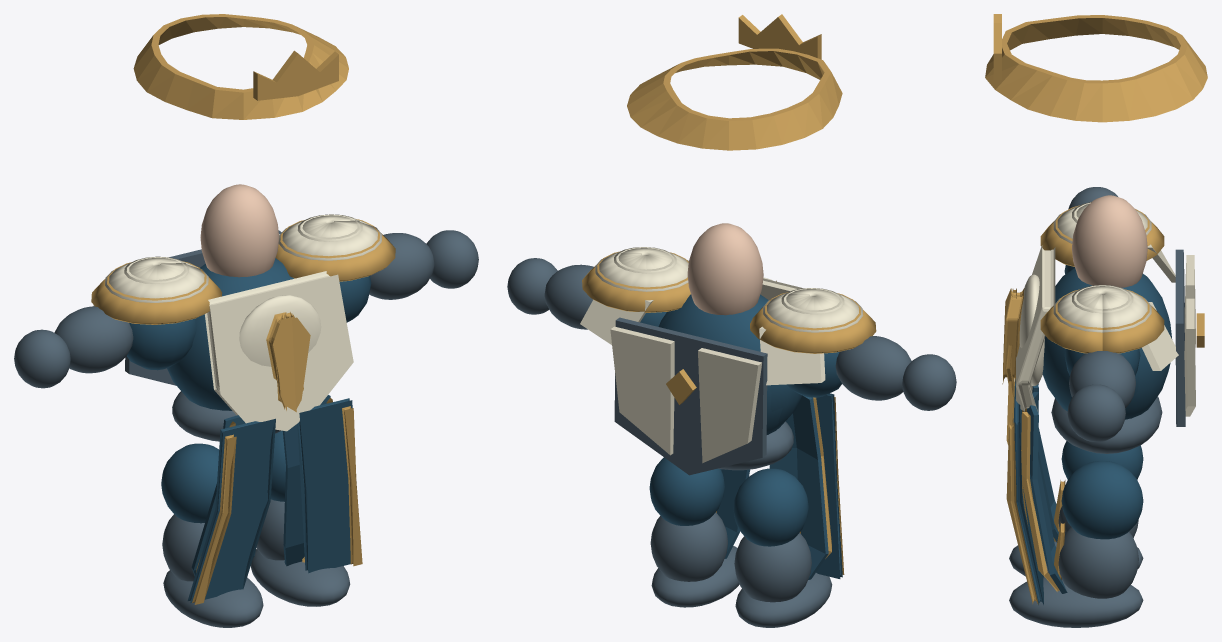
Rendered from knight-fitting-head-balance-v1.glb.
The picture shows the model from 3 angles, left to right: view 1: azimuth 30°, elevation 25°; view 2: azimuth 150°, elevation 25°; view 3: azimuth 270°, elevation 25°; orthographic projection. The views are drawn at different scales.
Parts seen in each view (by area): view 1: TLL_chest, Oath cuirass, TLL_head, Split navy coat.001, Split navy coat, TLL_hips, TLL_lowerarmr, TLL_upperlegr, TLL_footl, Curved shoulder lame -1 2, TLL_footr, TLL_lowerarml (+17 smaller); view 2: TLL_head, TLL_chest, Jade Knight dorsal shadow seam, TLL_hips, Jade Knight split oath crest 1, Jade Knight split oath crest -1, TLL_upperlegr, TLL_lowerlegr, TLL_lowerlegl, TLL_upperlegl, TLL_lowerarmr, Curved shoulder lame -1 2 (+14 smaller); view 3: TLL_head, TLL_chest, TLL_hips, TLL_upperlegl, TLL_lowerlegl, TLL_footl, Curved shoulder lame 1 2, Oath cuirass, TLL_handl, Curved shoulder lame 1 1, TLL_lowerarml, Jade Knight dorsal shadow seam (+16 smaller).
Boxes of the visible parts, left/top/right/bottom form: TLL_chest: left=167, top=184, right=321, bottom=410; Oath cuirass: left=204, top=271, right=353, bottom=431; TLL_head: left=133, top=14, right=348, bottom=119; Split navy coat.001: left=297, top=398, right=352, bottom=573; Split navy coat: left=187, top=418, right=275, bottom=603; TLL_hips: left=172, top=391, right=332, bottom=576; TLL_lowerarmr: left=54, top=306, right=133, bottom=373; TLL_upperlegr: left=161, top=443, right=218, bottom=523; TLL_footl: left=250, top=549, right=350, bottom=606; Curved shoulder lame -1 2: left=91, top=261, right=222, bottom=324; TLL_footr: left=163, top=570, right=263, bottom=627; TLL_lowerarml: left=369, top=233, right=434, bottom=299; TLL_head: left=627, top=14, right=842, bottom=150; TLL_chest: left=658, top=223, right=802, bottom=434; Jade Knight dorsal shadow seam: left=614, top=317, right=767, bottom=475; TLL_hips: left=717, top=395, right=831, bottom=579; Jade Knight split oath crest 1: left=610, top=326, right=674, bottom=455; Jade Knight split oath crest -1: left=698, top=348, right=761, bottom=463; TLL_upperlegr: left=733, top=468, right=808, bottom=546; TLL_lowerlegr: left=734, top=531, right=811, bottom=602; TLL_lowerlegl: left=650, top=511, right=727, bottom=581; TLL_upperlegl: left=649, top=457, right=724, bottom=525; TLL_lowerarmr: left=835, top=336, right=911, bottom=400; Curved shoulder lame -1 2: left=750, top=292, right=876, bottom=353; TLL_head: left=985, top=14, right=1207, bottom=122; TLL_chest: left=1006, top=195, right=1172, bottom=419; TLL_hips: left=1021, top=384, right=1162, bottom=593; TLL_upperlegl: left=1061, top=461, right=1143, bottom=539; TLL_lowerlegl: left=1054, top=522, right=1138, bottom=598; TLL_footl: left=1009, top=576, right=1143, bottom=627; Curved shoulder lame 1 2: left=1040, top=289, right=1164, bottom=353; Oath cuirass: left=1016, top=245, right=1055, bottom=411; TLL_handl: left=1067, top=384, right=1125, bottom=441; Curved shoulder lame 1 1: left=1053, top=285, right=1151, bottom=332; TLL_lowerarml: left=1069, top=351, right=1135, bottom=407; Jade Knight dorsal shadow seam: left=1175, top=249, right=1185, bottom=426.
Size of the model in its own units: 1.79 by 2.18 by 0.7624.
